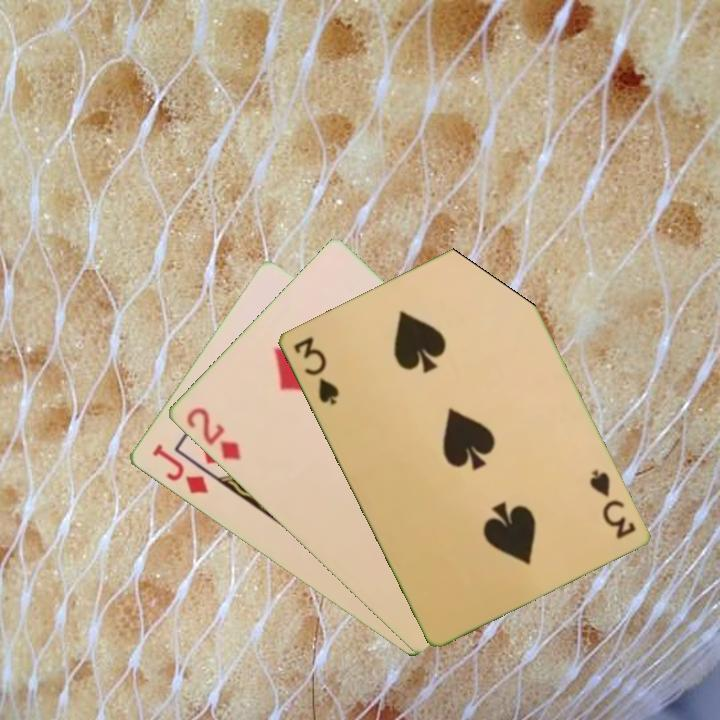2d: (182, 403, 244, 463)
3s: (585, 466, 638, 542), (289, 332, 341, 408)
Jd: (147, 440, 211, 497)
